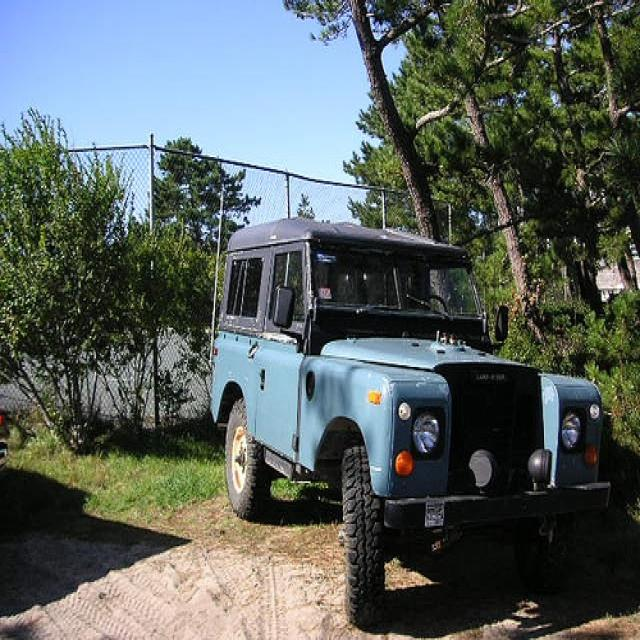car: (208, 213, 612, 625)
